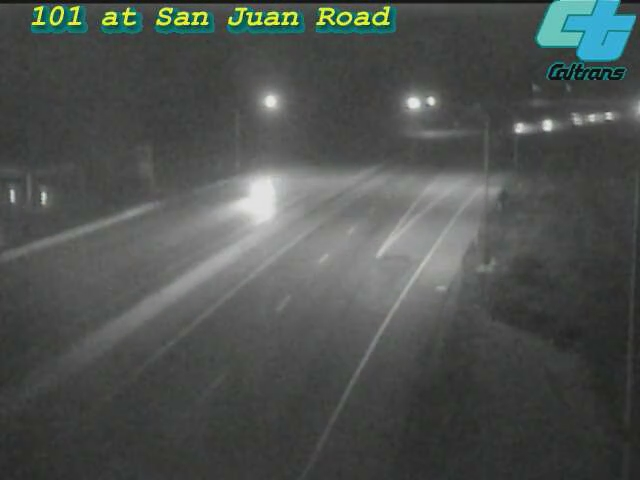vehicle: (223, 153, 303, 233), (585, 91, 635, 141), (569, 92, 619, 142), (550, 94, 600, 144), (525, 99, 575, 149), (498, 102, 548, 152)
